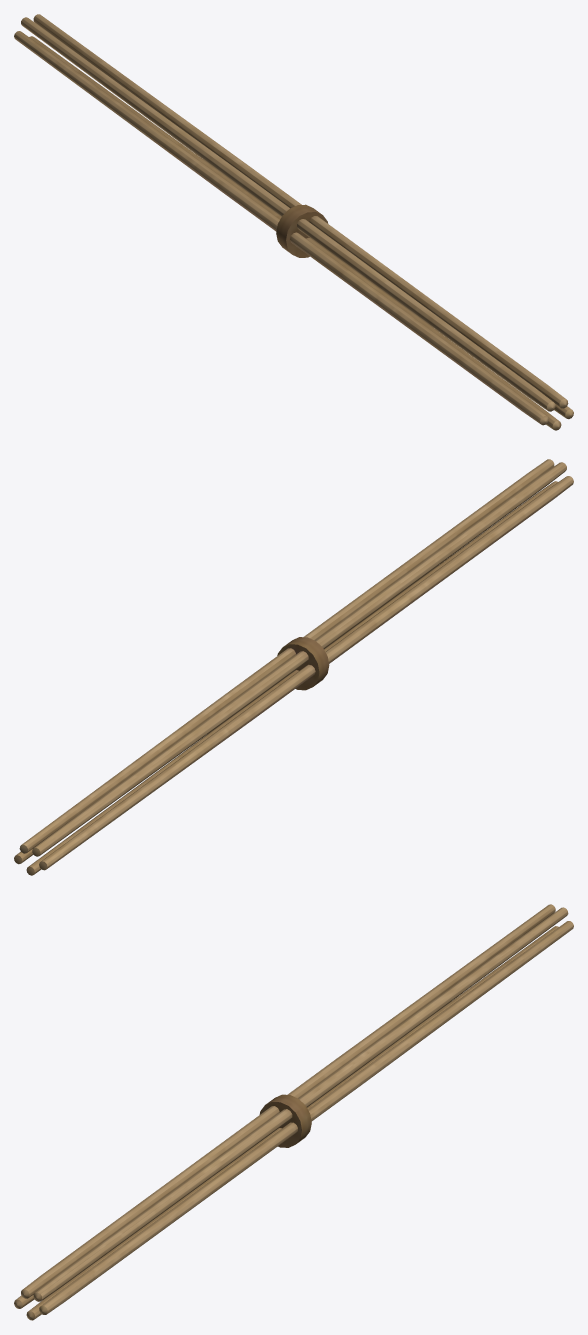
File: arrow_shafts.glb
3 renders of one model, top to bottom at view 1: azimuth 30°, elevation 25°; view 2: azimuth 150°, elevation 25°; view 3: azimuth 330°, elevation 25°, orthographic.
Visible parts, largest first — view 1: arrow_shafts; view 2: arrow_shafts; view 3: arrow_shafts.
Boxes of the visible parts, x1=… form: arrow_shafts: x1=14, y1=14, x2=573, y2=430; arrow_shafts: x1=14, y1=459, x2=573, y2=875; arrow_shafts: x1=14, y1=904, x2=573, y2=1320.
Bounding box in the file's own units: 0.038 × 0.038 × 0.8.
Materials: 1 (1 with a texture image).
